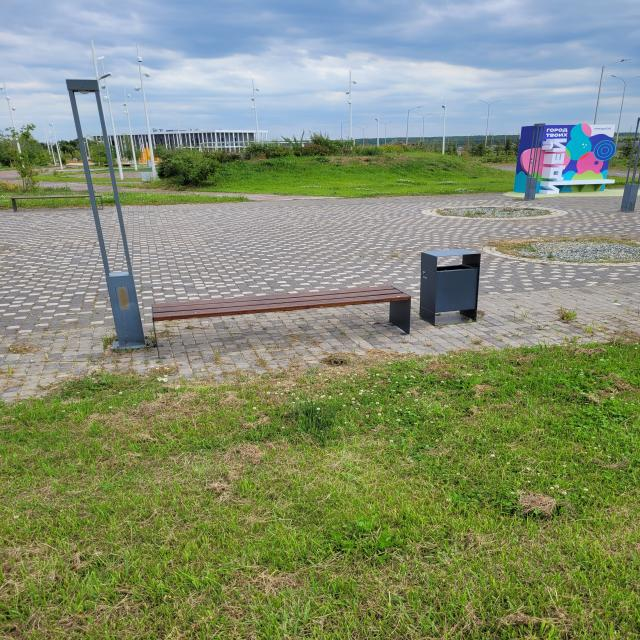Bench: (152, 286, 411, 359)
